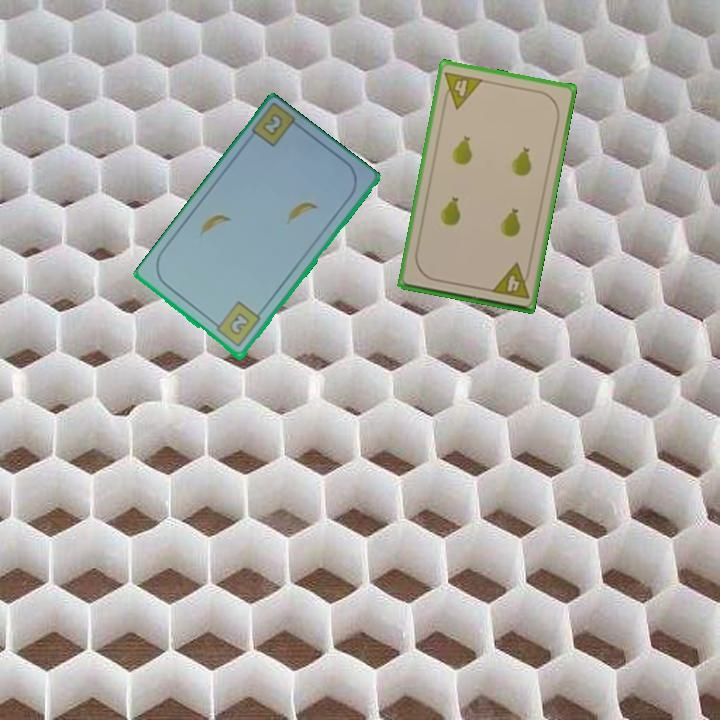2b: (209, 298, 263, 350), (258, 112, 286, 139)
4p: (439, 68, 486, 112), (487, 260, 533, 302)
